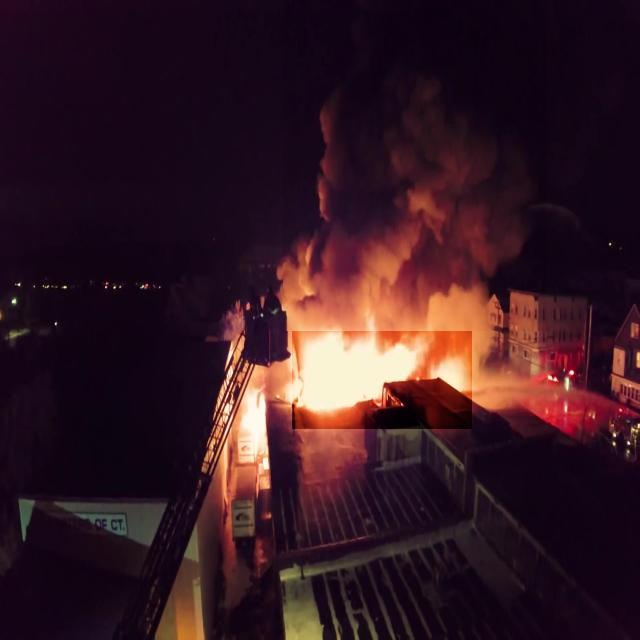Fire: (292, 316, 472, 429)
Smoke: (284, 0, 548, 331)
